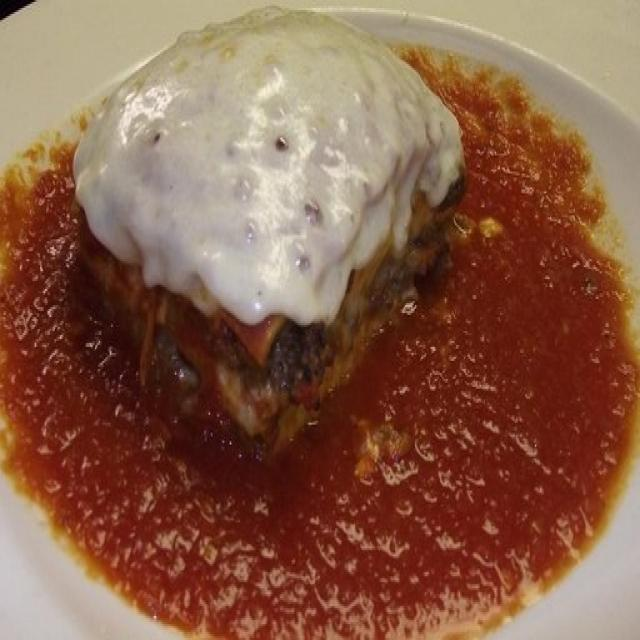Lasagna: (56, 12, 550, 518)
